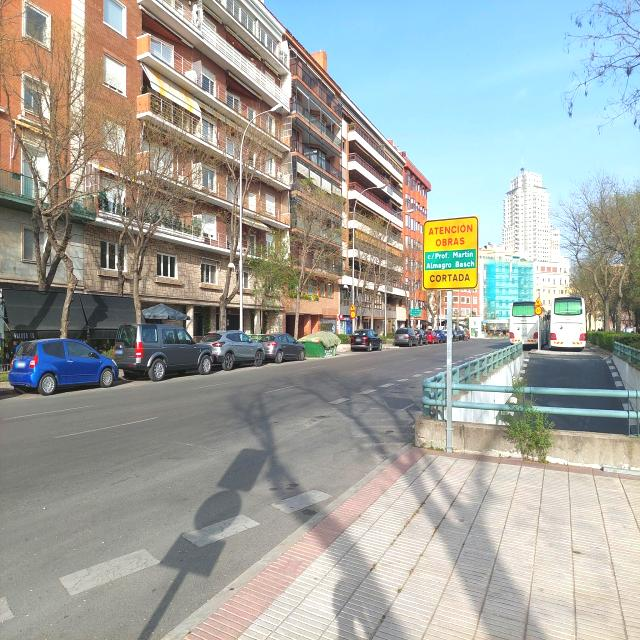car: (8, 337, 119, 396), (200, 329, 265, 370), (548, 294, 586, 352), (257, 332, 307, 362), (351, 328, 384, 352), (394, 326, 419, 347), (415, 328, 428, 344), (424, 329, 436, 343), (456, 328, 466, 341), (438, 330, 448, 342)
